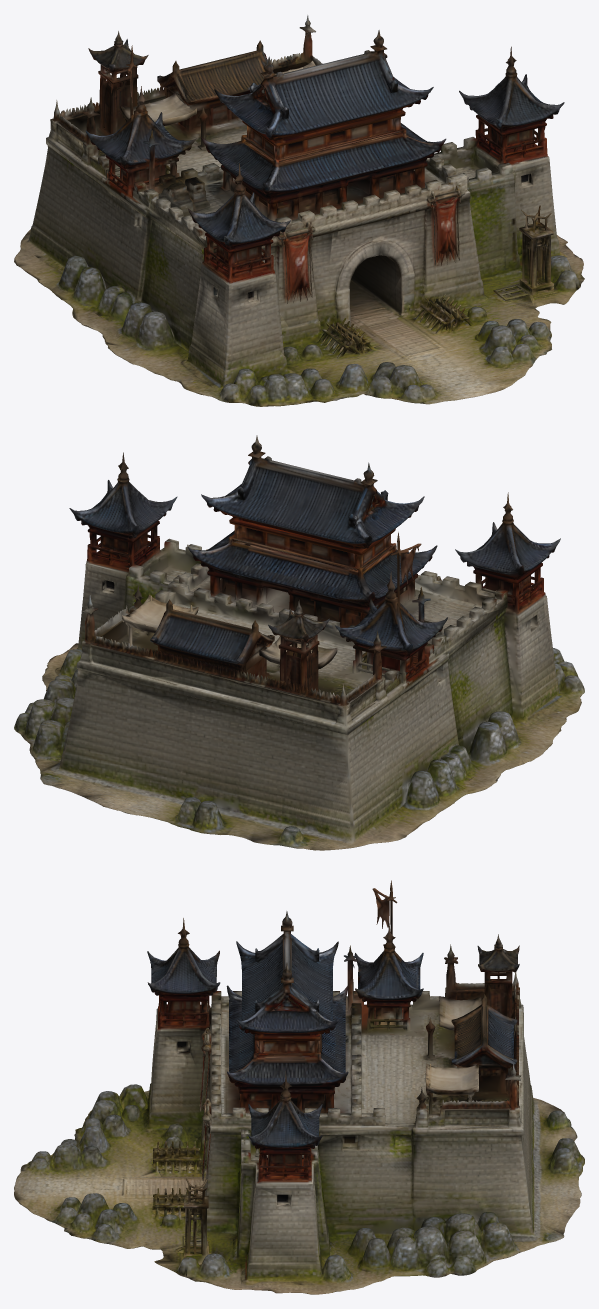
File: MeiguanStation.glb
3 views of the same model, one above another, from view 1: azimuth 30°, elevation 25°; view 2: azimuth 150°, elevation 25°; view 3: azimuth 270°, elevation 25° (orthographic). The views are drawn at different scales.
Visible parts, largest first — view 1: node_0; view 2: node_0; view 3: node_0.
Part boxes in pixels (<box>): node_0: <box>14,15,584,406</box>; node_0: <box>14,435,584,850</box>; node_0: <box>14,880,584,1294</box>.
Size of the model in its own units: 0.8831 by 0.4681 by 0.9884.
1 material, 1 textured.
